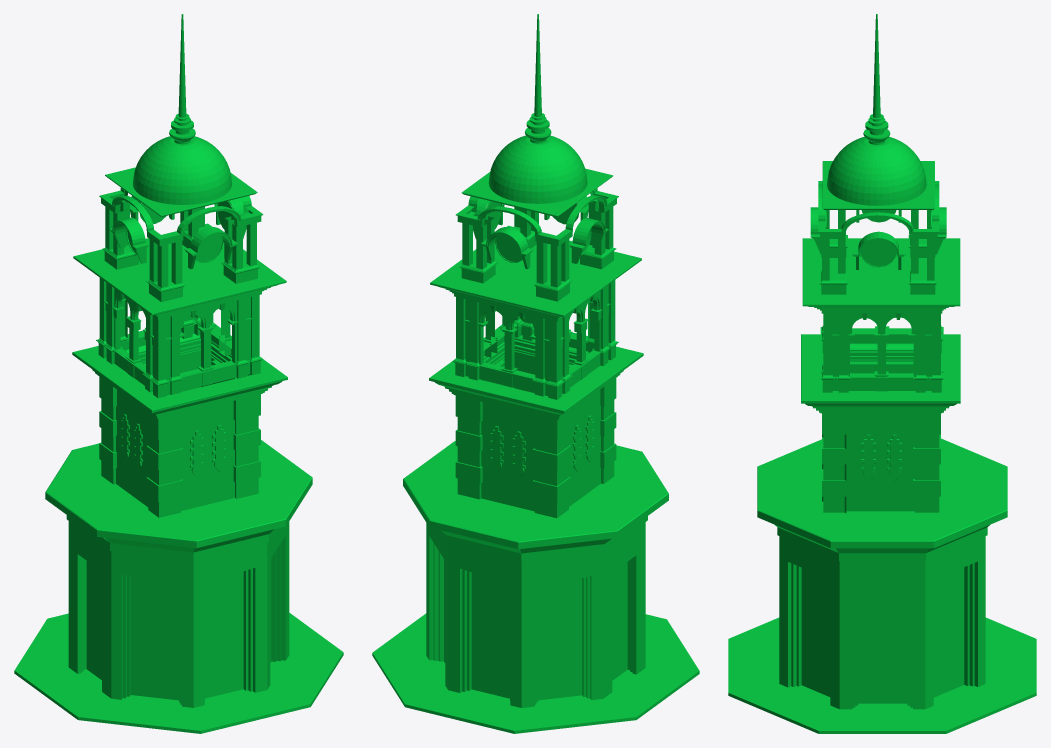
Rendered from tower1.fbx.
3 renders of one model, left to right at view 1: azimuth 30°, elevation 25°; view 2: azimuth 150°, elevation 25°; view 3: azimuth 270°, elevation 25°, orthographic.
Visible parts, largest first — view 1: clocktower_obj:clock_tower_layer1; view 2: clocktower_obj:clock_tower_layer1; view 3: clocktower_obj:clock_tower_layer1.
Boxes of the visible parts, <box> form: clocktower_obj:clock_tower_layer1: <box>14,14,343,733</box>; clocktower_obj:clock_tower_layer1: <box>372,14,699,733</box>; clocktower_obj:clock_tower_layer1: <box>728,14,1036,733</box>.
Bounding box in the file's own units: 18.18 × 42.64 × 18.18.
